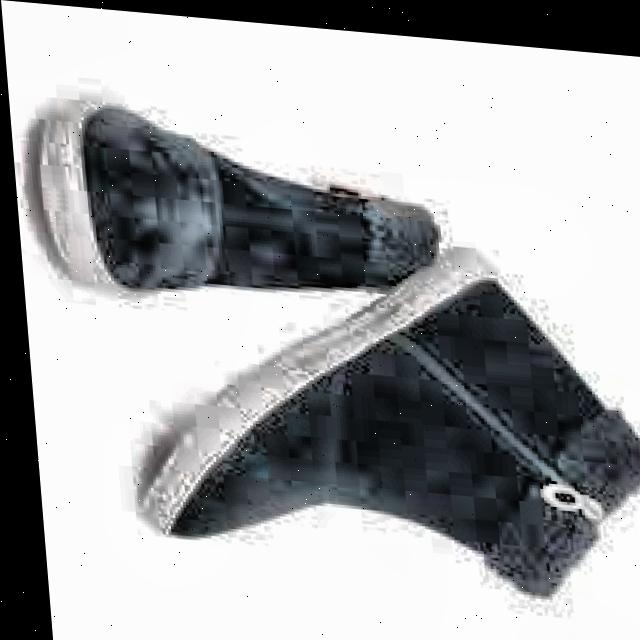shoes: (23, 92, 640, 626)
